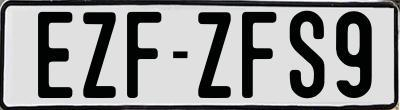9: (336, 9, 375, 102)
E: (38, 11, 78, 98)
F: (126, 12, 166, 102), (240, 12, 279, 100)
S: (289, 8, 325, 97)
Z: (80, 12, 116, 101), (195, 11, 228, 99)
